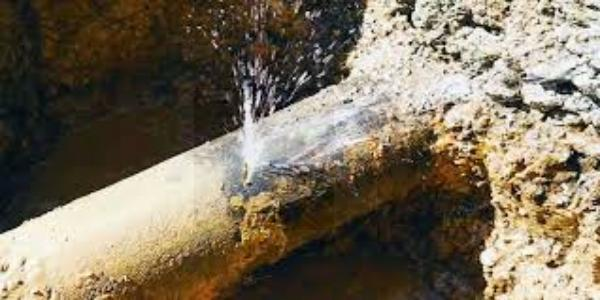pipe burst: (222, 47, 563, 197)
